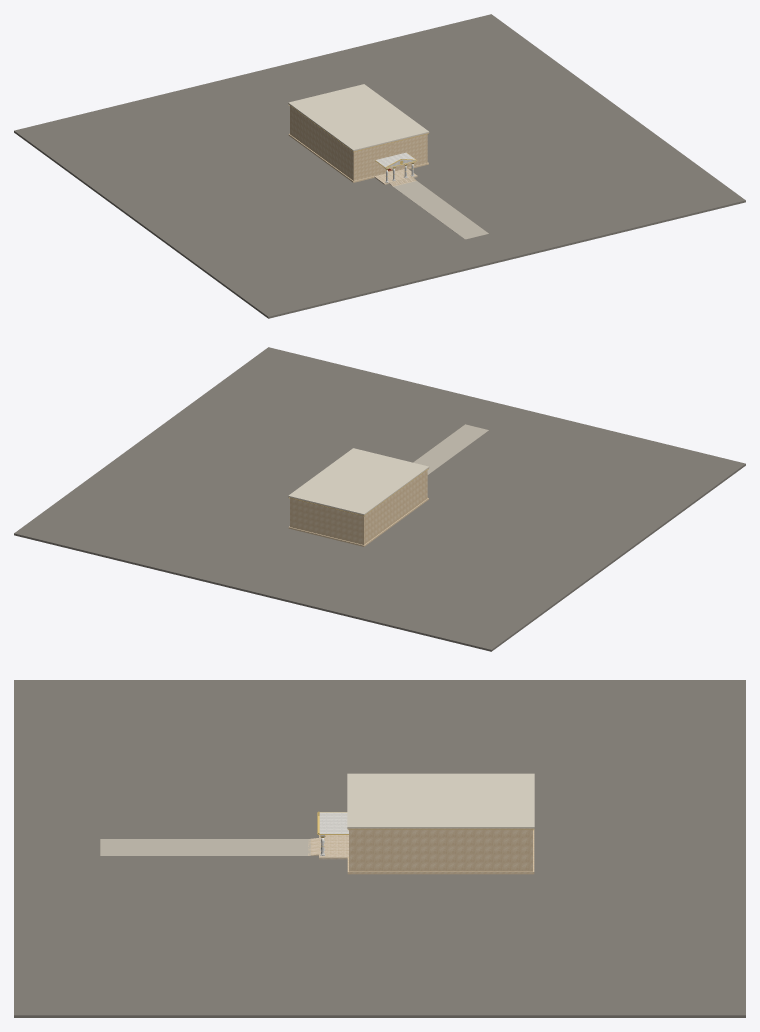
File: banquet_hall_v3_high.glb
3 renders of one model, top to bottom at view 1: azimuth 30°, elevation 25°; view 2: azimuth 150°, elevation 25°; view 3: azimuth 270°, elevation 25°, orthographic. The views are drawn at different scales.
Visible parts, largest first — view 1: Exterior_Ground.ground_stone, Roof.roof_stone, Shell.wall_marble, Exterior_Ground.paving; view 2: Exterior_Ground.ground_stone, Roof.roof_stone, Shell.wall_marble, Exterior_Ground.paving; view 3: Exterior_Ground.ground_stone, Roof.roof_stone, Shell.wall_marble, Exterior_Ground.paving, Entrance_Portico_Platform.floor_marble, Exterior_Plinth.wall_marble, Entrance_Portico_Entablature.marble_white.
Boxes of the visible parts, x1,y1,x2,y2 form: Exterior_Ground.ground_stone: [14, 14, 745, 318]; Roof.roof_stone: [288, 84, 429, 150]; Shell.wall_marble: [290, 105, 427, 180]; Exterior_Ground.paving: [393, 181, 488, 239]; Exterior_Ground.ground_stone: [14, 347, 745, 651]; Roof.roof_stone: [288, 448, 429, 514]; Shell.wall_marble: [290, 470, 427, 544]; Exterior_Ground.paving: [413, 424, 488, 474]; Exterior_Ground.ground_stone: [14, 680, 745, 1017]; Roof.roof_stone: [347, 773, 534, 828]; Shell.wall_marble: [349, 829, 532, 871]; Exterior_Ground.paving: [100, 839, 310, 855]; Entrance_Portico_Platform.floor_marble: [308, 835, 348, 859]; Exterior_Plinth.wall_marble: [347, 829, 534, 874]; Entrance_Portico_Entablature.marble_white: [319, 812, 348, 836].
Size of the model in its own units: 260 by 18.1 by 240.
Materials: 33 (13 with a texture image).
